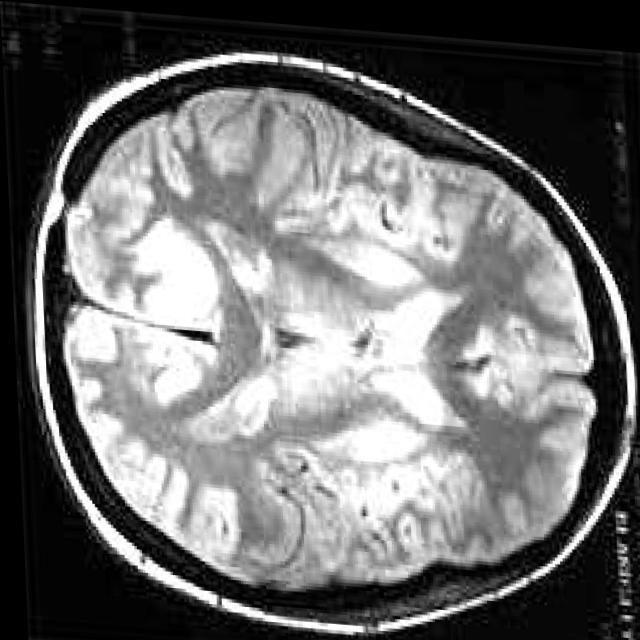Tumor: (126, 214, 215, 318)
